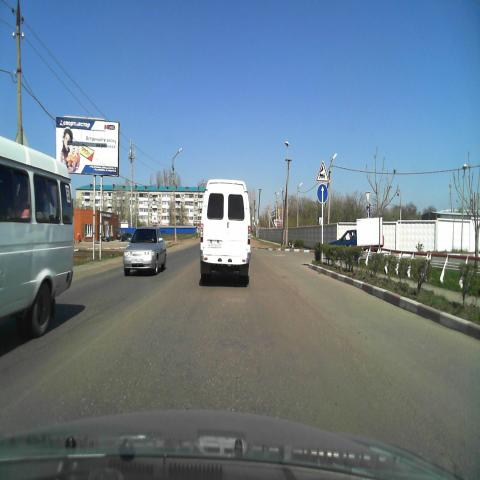1_2: (316, 160, 330, 181)
